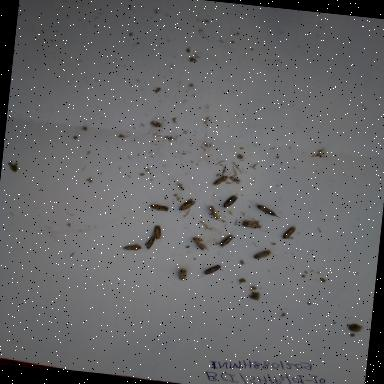pbw: (196, 262, 223, 282), (252, 201, 280, 220), (249, 246, 278, 264), (116, 238, 144, 256), (217, 191, 239, 213), (209, 170, 231, 190), (176, 196, 198, 215), (174, 264, 193, 284), (190, 236, 212, 252), (202, 204, 221, 222), (151, 224, 167, 244), (146, 201, 170, 214), (281, 224, 298, 242), (240, 219, 264, 231), (218, 234, 234, 250), (144, 233, 158, 251)
